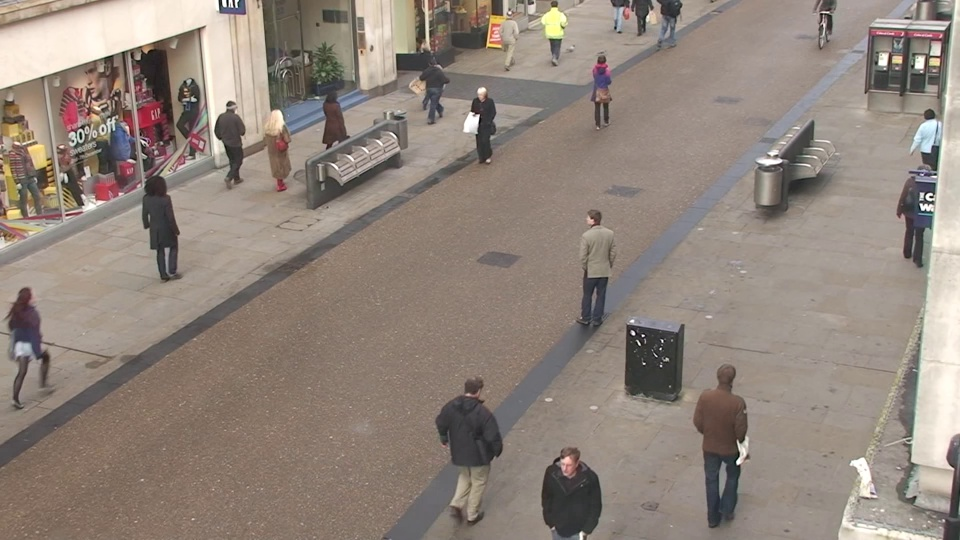pedestrian: (0, 279, 66, 416), (695, 355, 751, 513), (449, 365, 502, 523), (539, 438, 595, 540), (135, 171, 180, 279), (902, 105, 948, 202), (576, 203, 613, 323), (262, 104, 296, 195), (216, 95, 251, 183), (317, 87, 349, 173), (468, 84, 499, 171), (419, 54, 447, 132), (589, 52, 614, 130), (413, 39, 439, 113), (496, 7, 520, 73)
